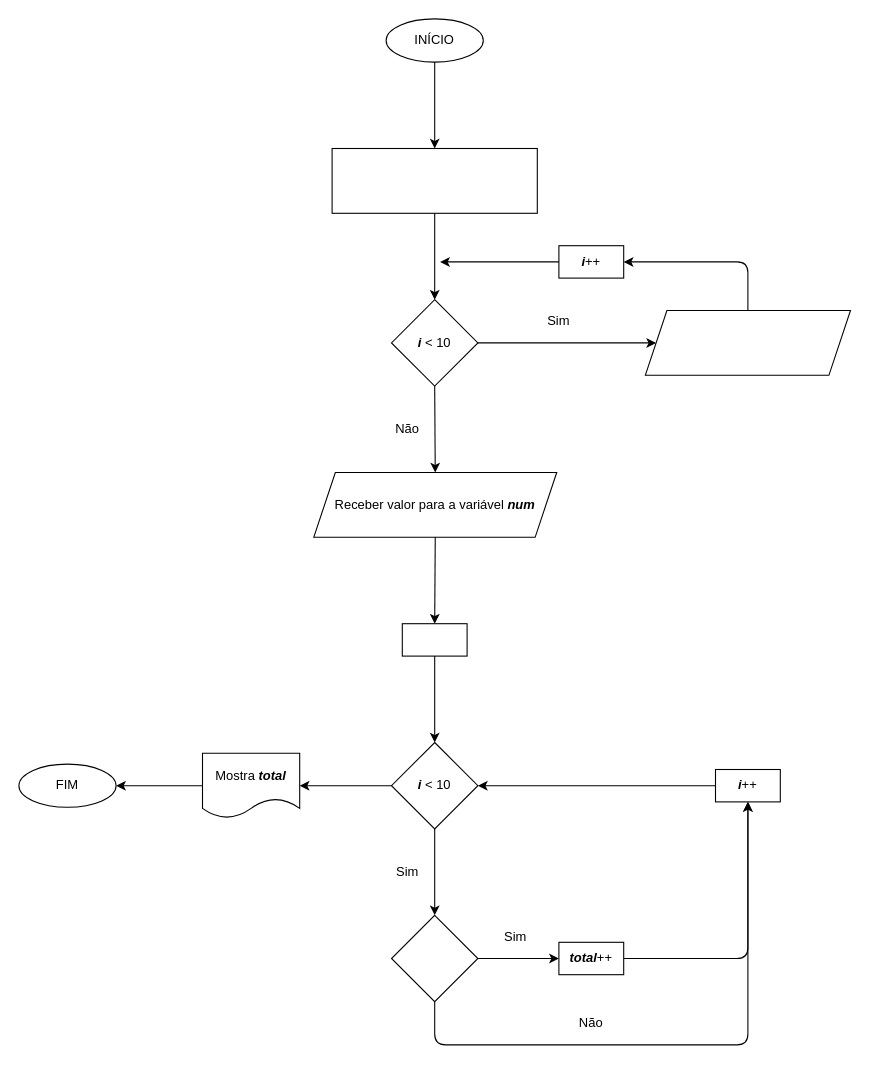
The diagram is 869 pixels wide and 1072 high, and some of its shapes have lost their labels. Here are the shapes that lost their labels. From the top down, the centre of each, then its label:
At pixel 434 180: "inteiro v[10] , num , i =0, total =0".
At pixel 747 342: "Ler valor para a variável v[i]".
At pixel 434 639: "i = 0".
At pixel 434 958: "v[i] = num".
